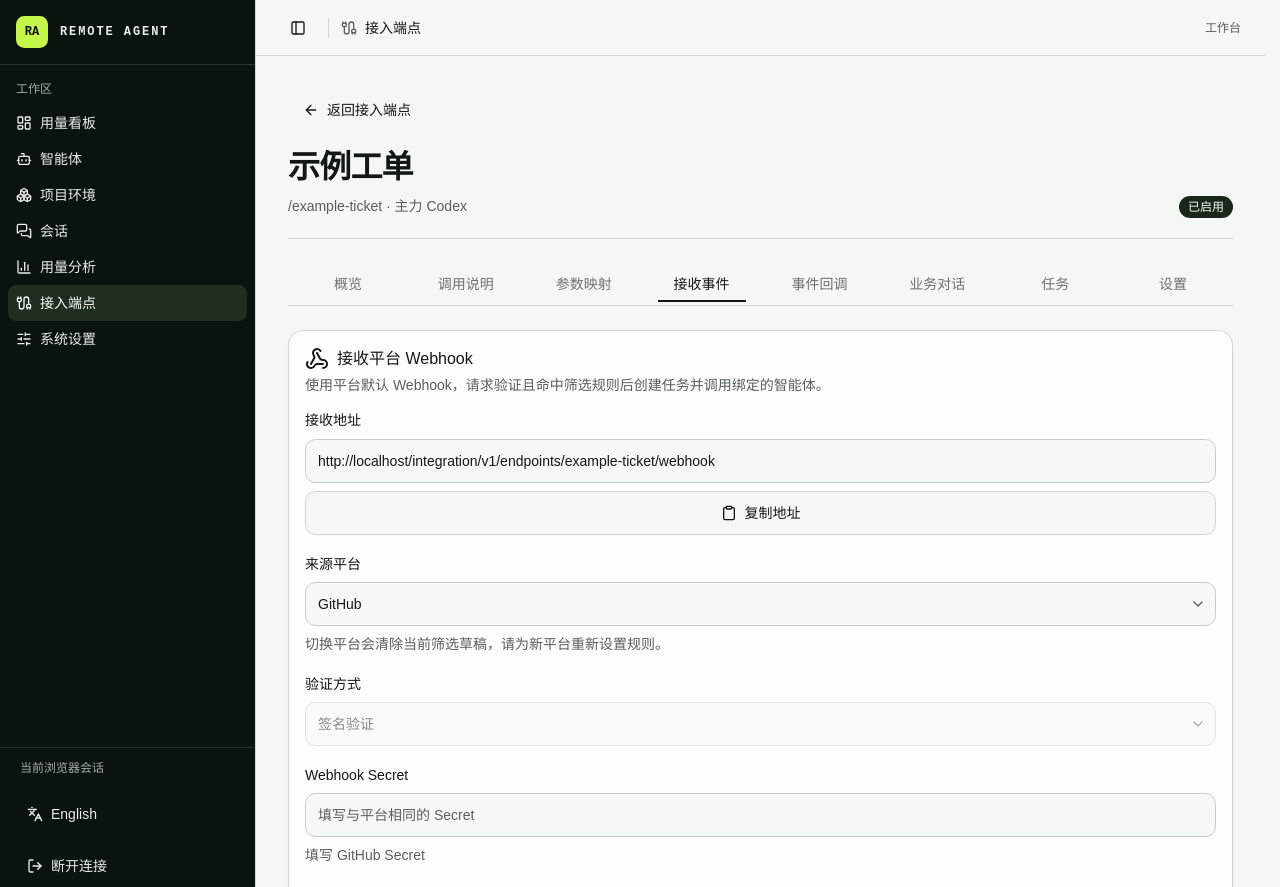
原生 Webhook 页面配置平台 Secret，成功后清空且切换平台需新 Secret
This screenshot has width=1280, height=887.
Select "GitLab" in the dropdown labelled "来源平台" at coordinates (760, 604), box [305,582,1216,626]
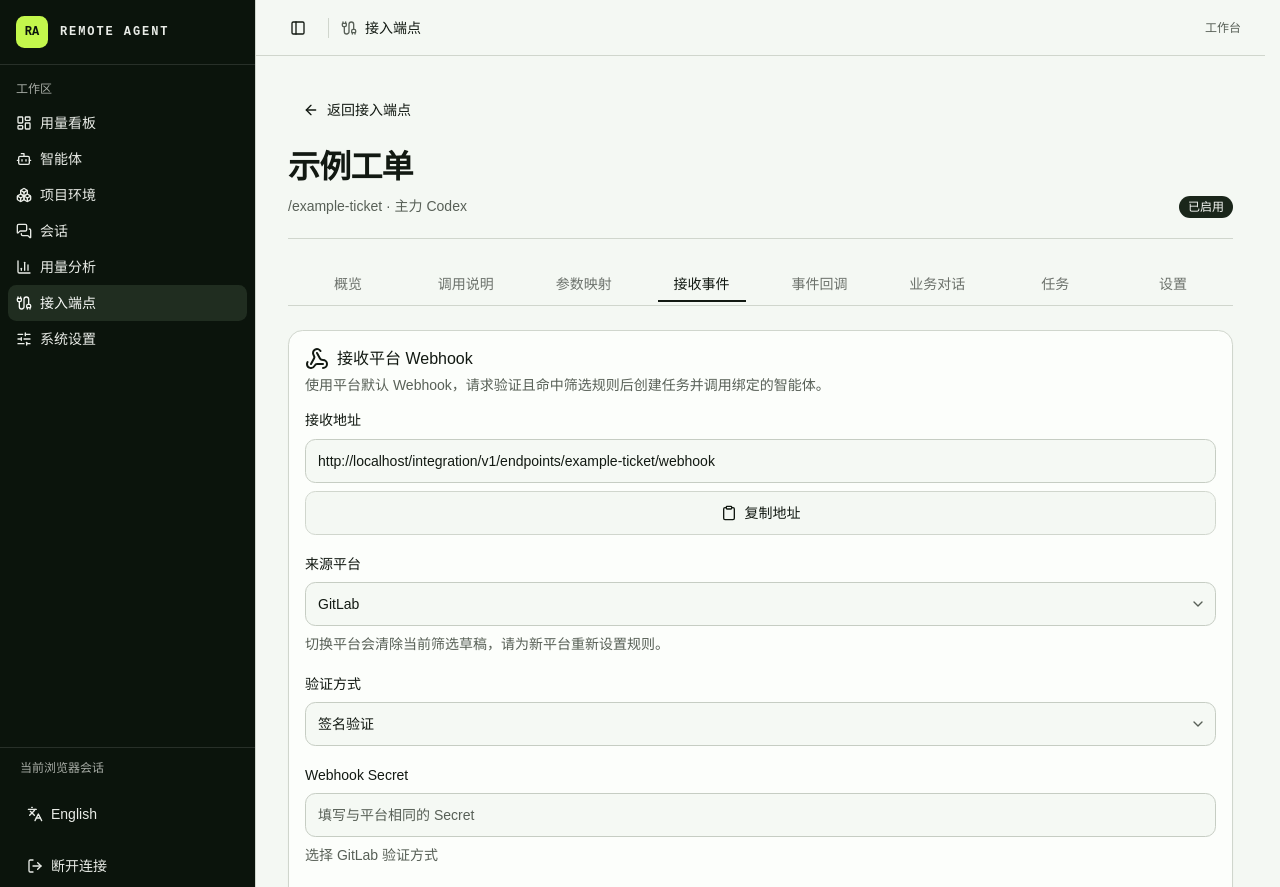
Select "Token 验证" in the dropdown labelled "验证方式" at coordinates (760, 724), box [305,702,1216,746]
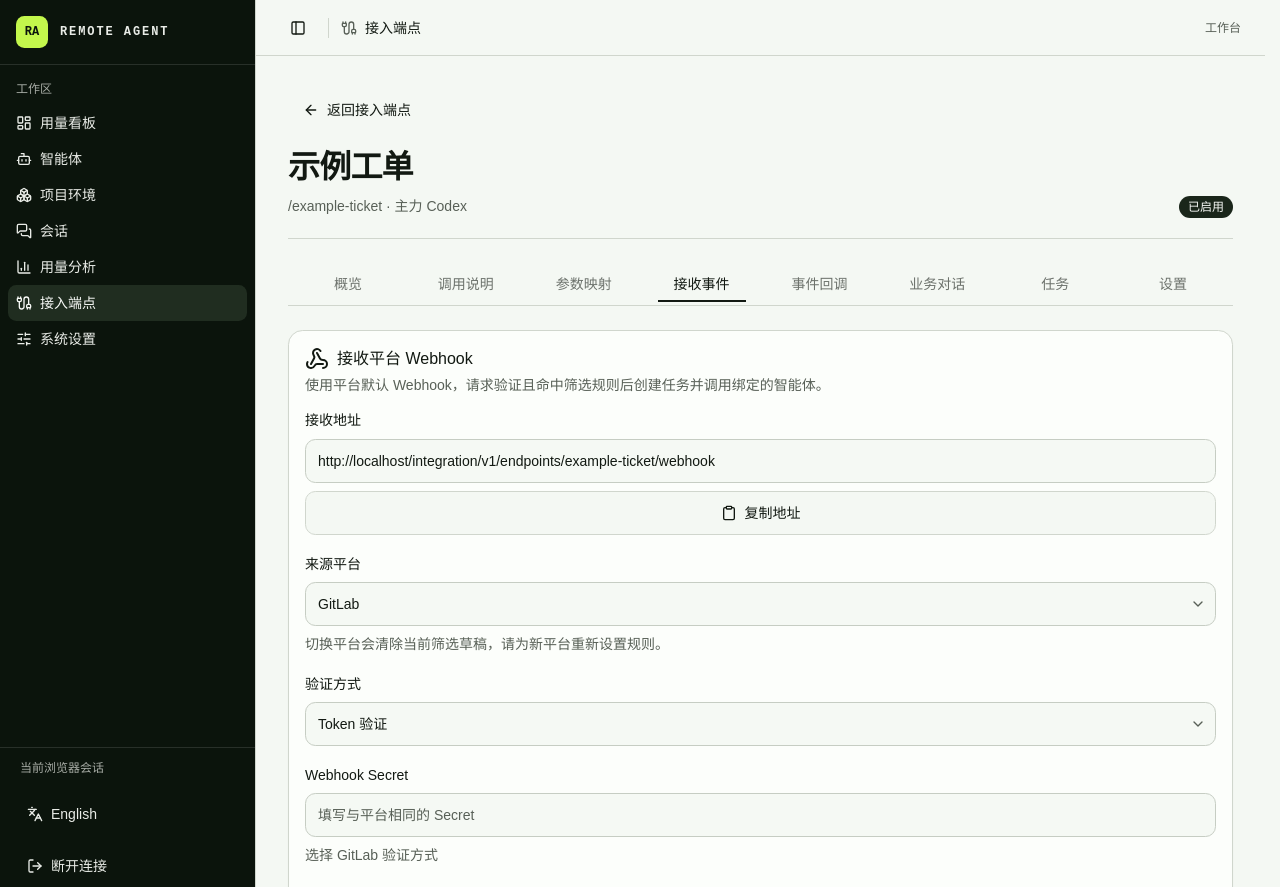
Type "native-platform-secret" into the password field labelled "Webhook Secret".
click(760, 815); type("native-platform-secret")  # box [305,793,1216,837]
(page scrolled)
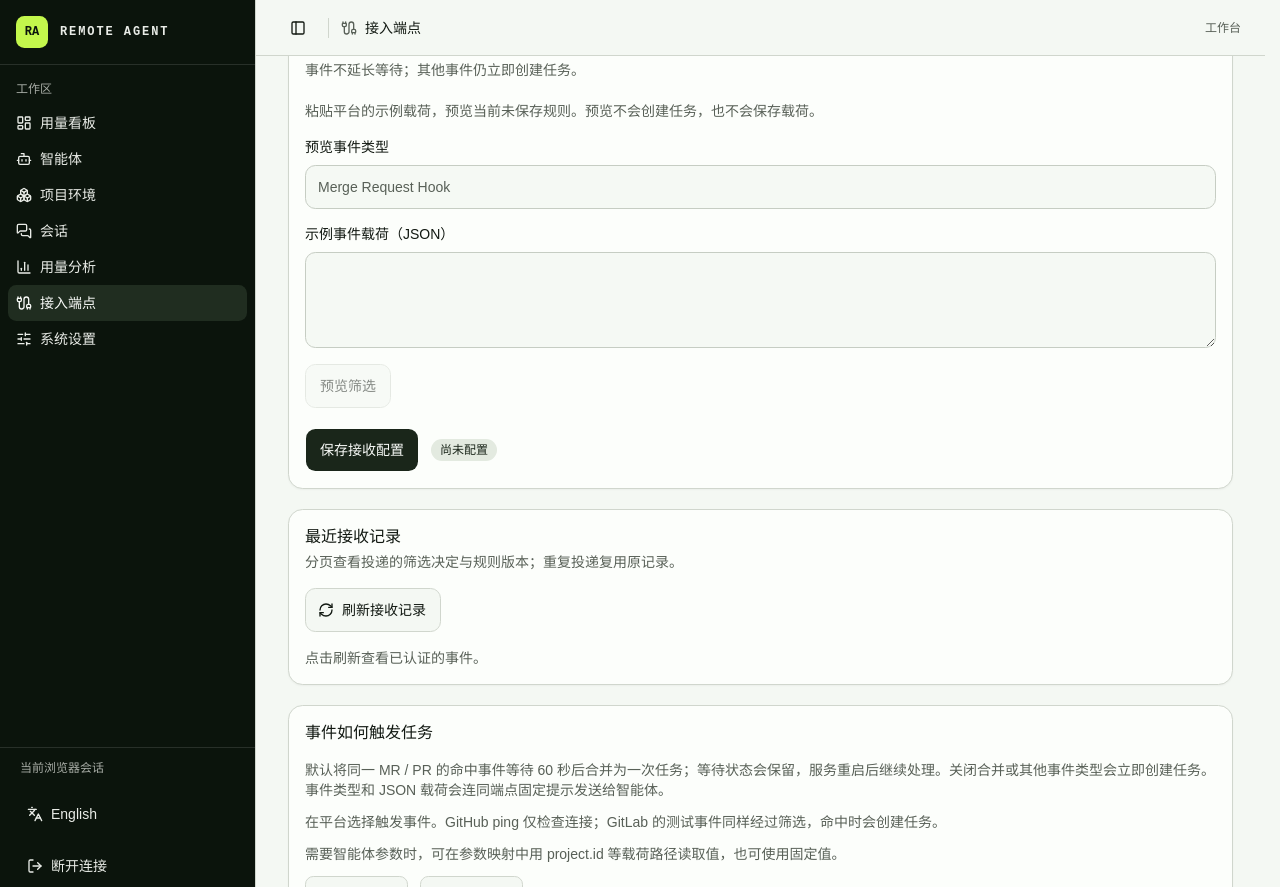
Click the button "保存接收配置".
click(362, 450)  # box [305,428,419,472]
(page scrolled)
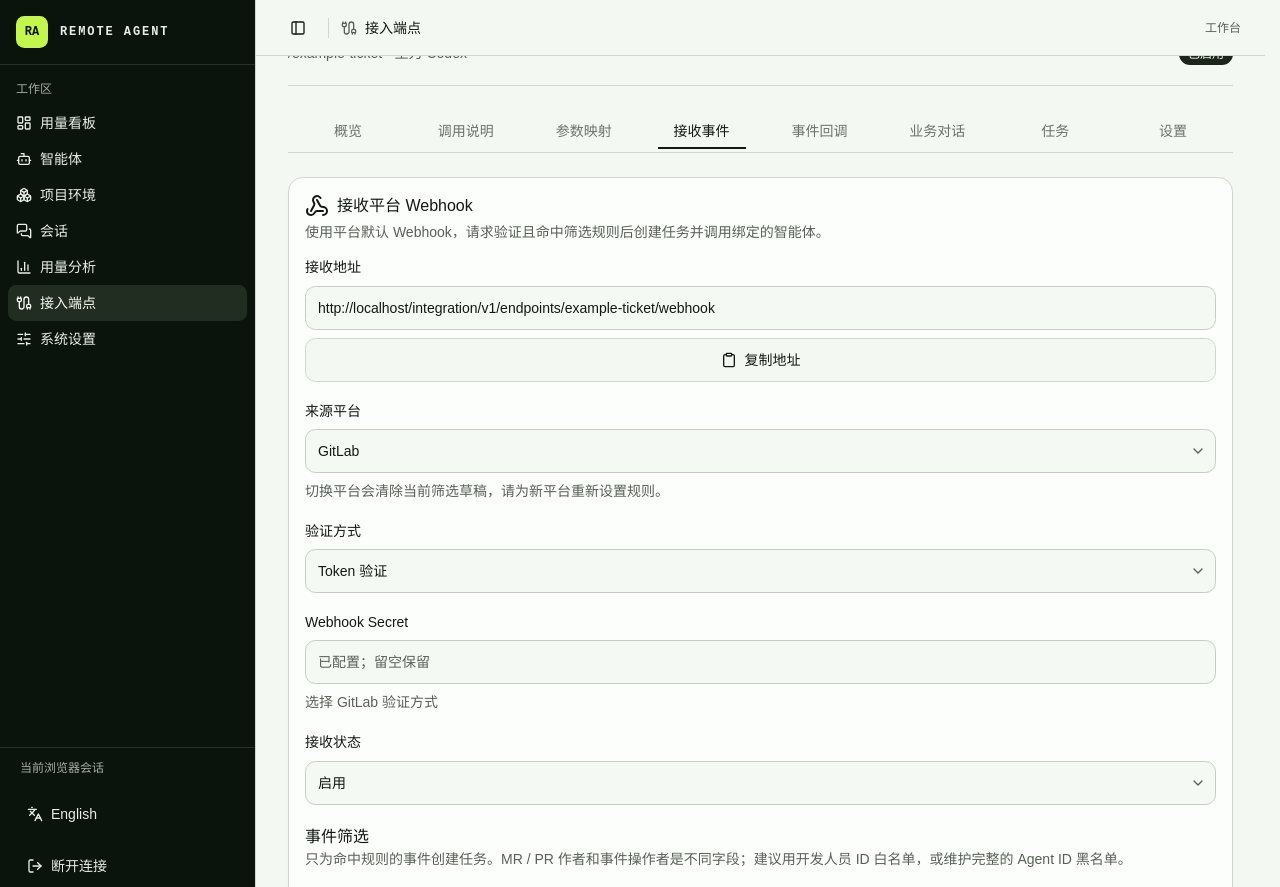
Result: the password field labelled "Webhook Secret" is empty at [305,640,1216,684]
Select "GitHub" in the dropdown labelled "来源平台" at coordinates (760, 451), box [305,429,1216,473]
(page scrolled)
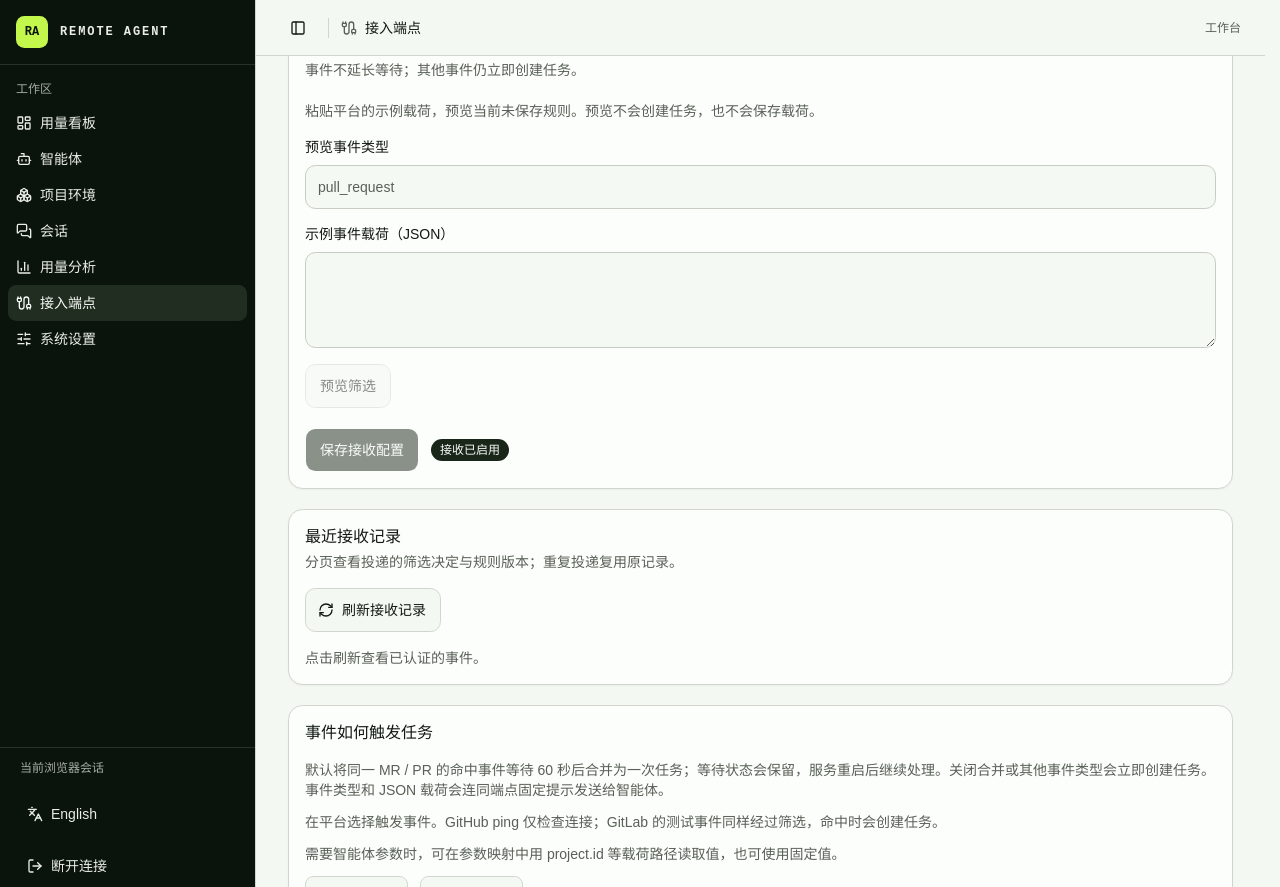
Result: the button "保存接收配置" is disabled at [305,428,419,472]
